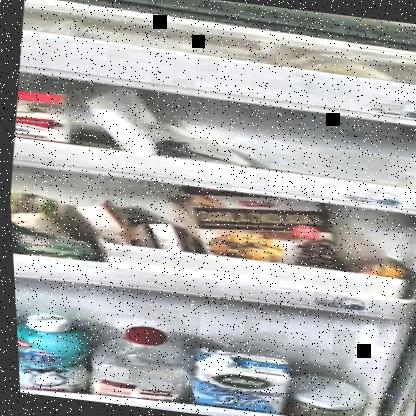milk: (185, 346, 285, 413)
